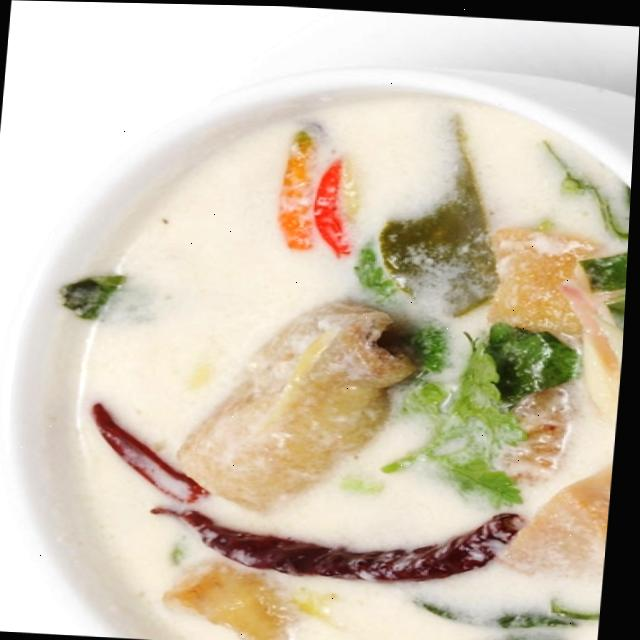汤锅炖物: (0, 57, 638, 640)
